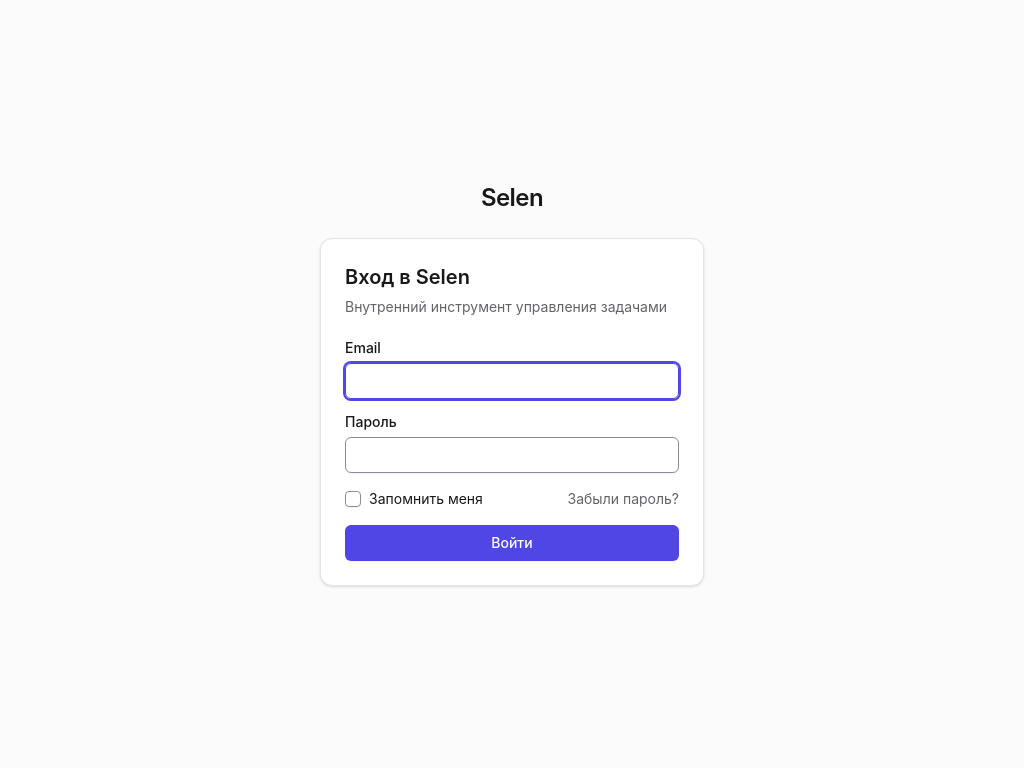
Test case: Страница входа › после успешного входа открывает главную с заглушкой досок
In the field labelled "Email": (512, 381) [345,363,679,399], type "admin@selen.test"
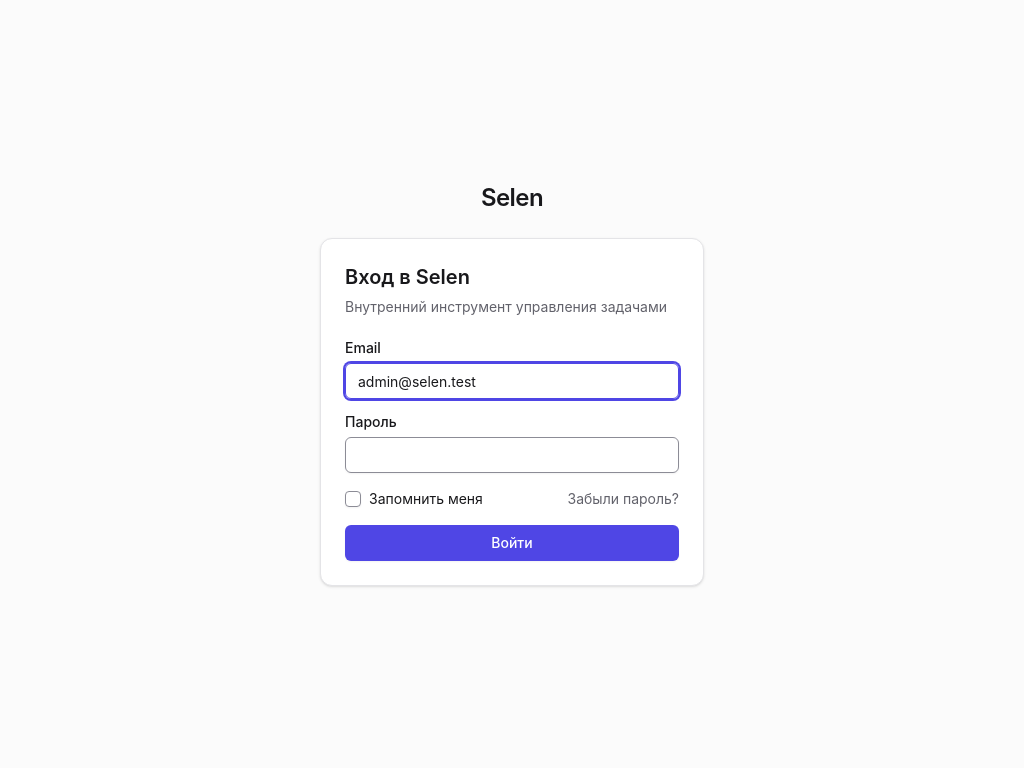
In the password field labelled "Пароль": (512, 455) [345,437,679,473], type "correct-password"
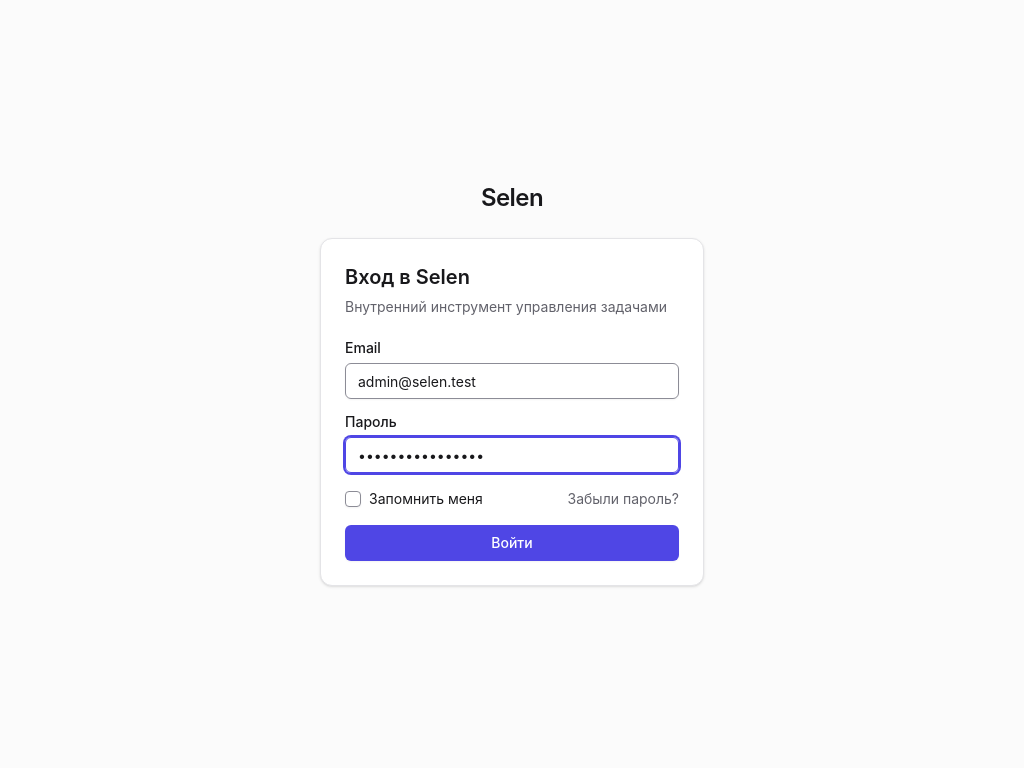
Click the checkbox named "Запомнить меня": (353, 499) [345,491,361,507]
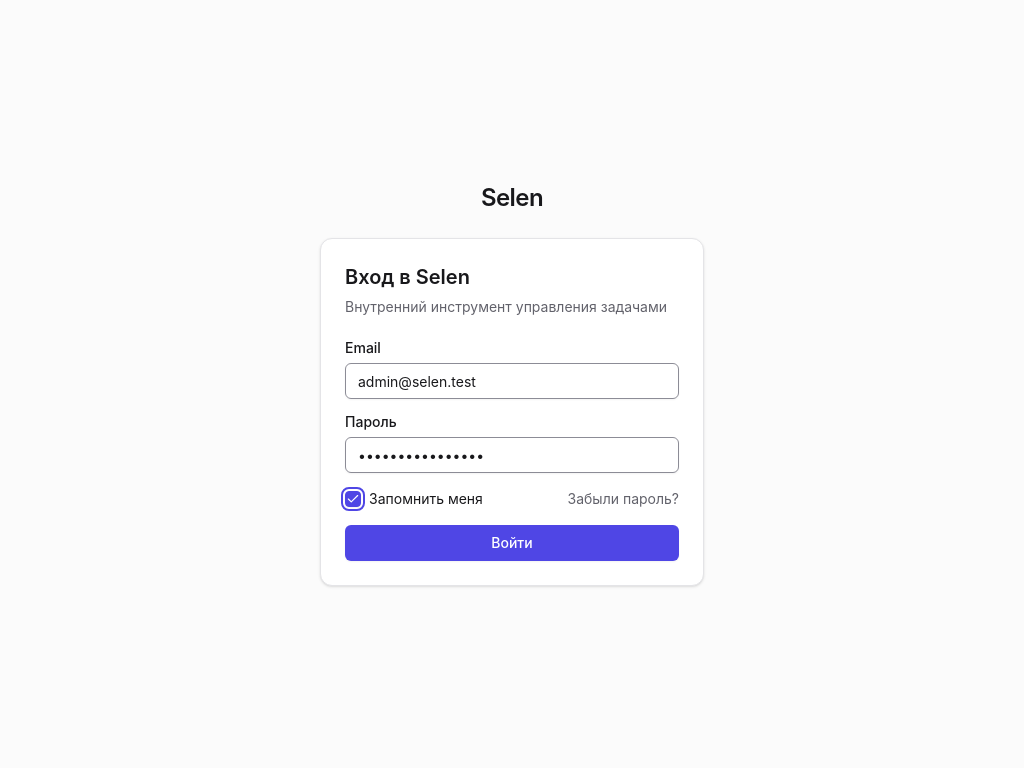
Click the button "Войти": (512, 543) [345,525,679,561]
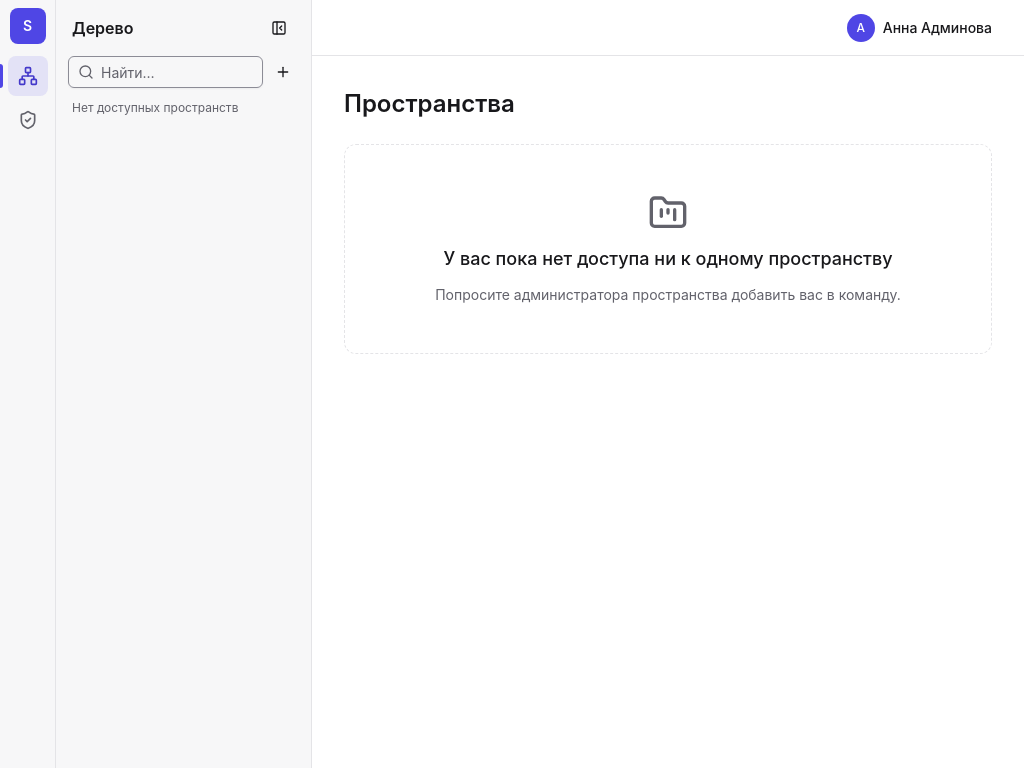
Expected: the heading "Пространства" is shown, [344,89,515,118]
